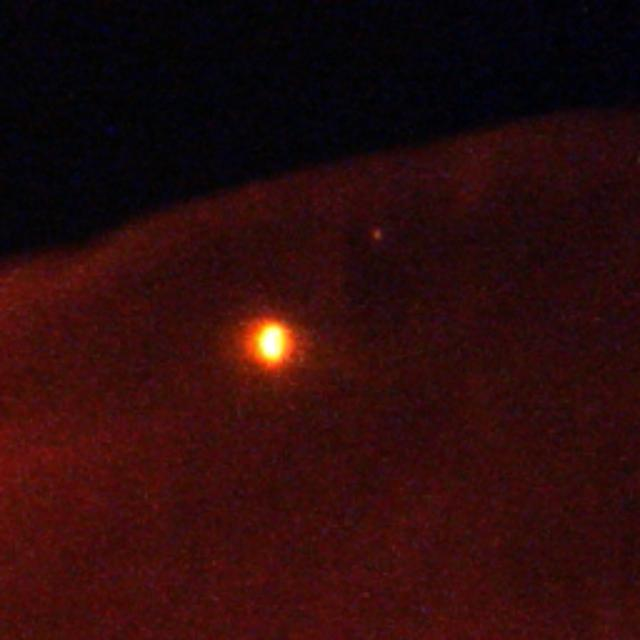microbeads: (252, 322, 296, 368)
